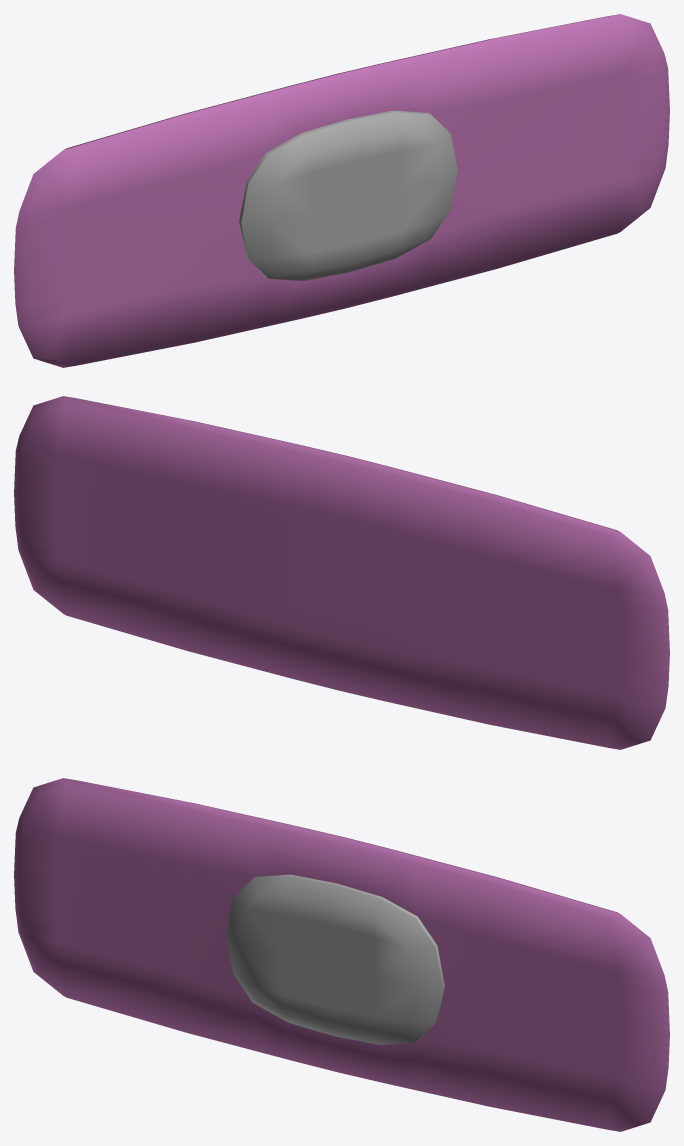
File: Plaster.FBX
3 renders of one model, top to bottom at view 1: azimuth 30°, elevation 25°; view 2: azimuth 150°, elevation 25°; view 3: azimuth 330°, elevation 25°, orthographic.
Parts seen in each view (by area): view 1: Plane001; view 2: Plane001; view 3: Plane001.
Part boxes in pixels (x1,y1,x2,y2): Plane001: (14, 14, 669, 367); Plane001: (14, 396, 669, 749); Plane001: (14, 778, 669, 1131).
Bounding box in the file's own units: 14.01 × 4.8 × 0.7531.
